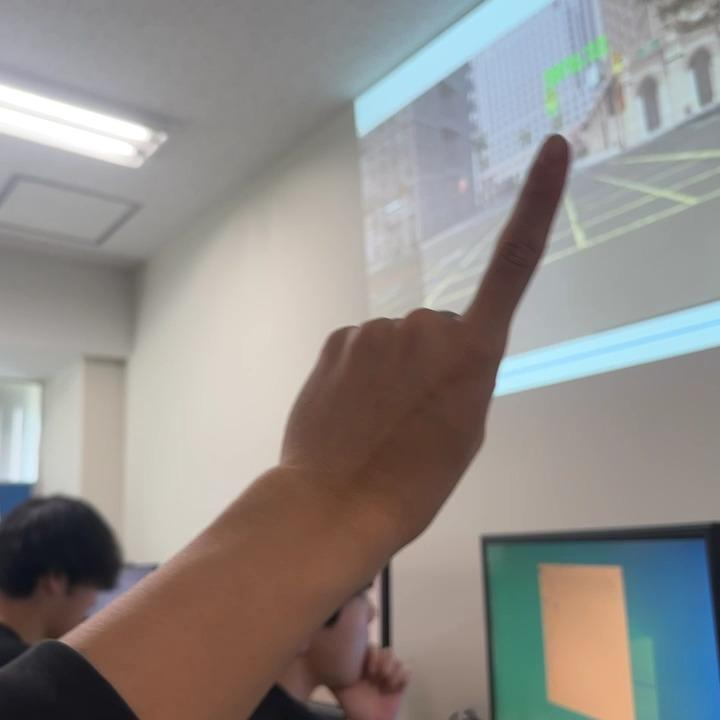without_gloves: (311, 98, 655, 573)
